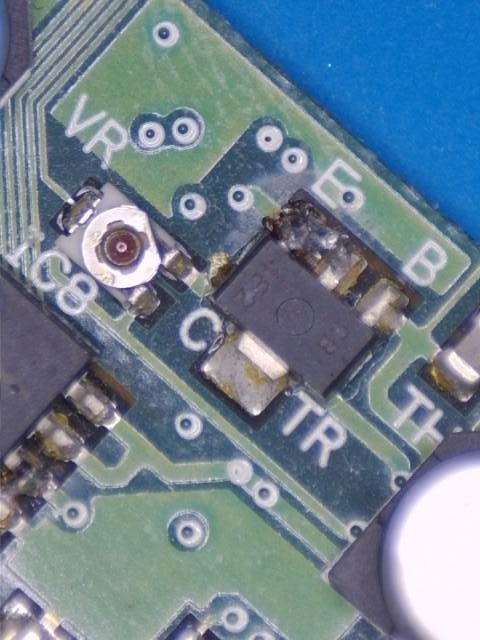pcb_defect: (279, 199, 359, 292)
